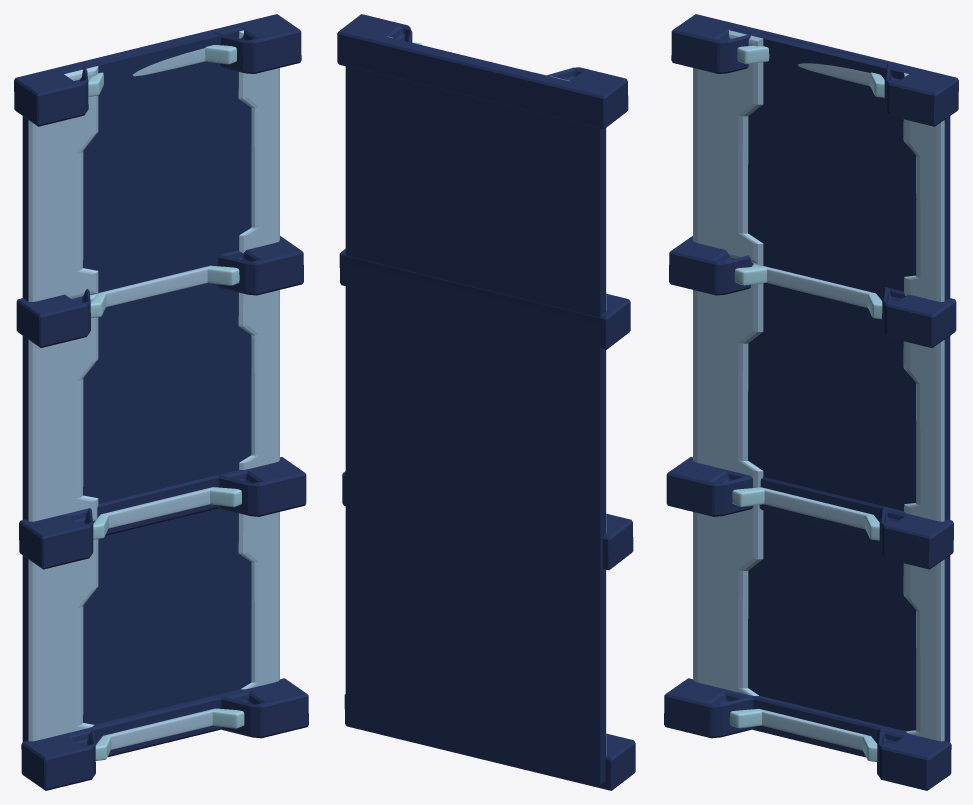
Rendered from One_Side_Corridor.fbx.
3 views of the same model, side by side, from view 1: azimuth 30°, elevation 25°; view 2: azimuth 150°, elevation 25°; view 3: azimuth 330°, elevation 25° (orthographic).
Parts seen in each view (by area): view 1: Wall2, Ridge_Outside2; view 2: Wall2, Ridge_Outside2; view 3: Wall2, Ridge_Outside2.
Boxes of the visible parts, x1,y1,x2,y2 form: Wall2: (22, 29, 279, 741); Ridge_Outside2: (14, 14, 308, 790); Wall2: (345, 36, 606, 784); Ridge_Outside2: (337, 14, 635, 790); Wall2: (693, 29, 950, 741); Ridge_Outside2: (664, 14, 958, 790).
Size of the model in its own units: 3067 by 7670 by 636.
